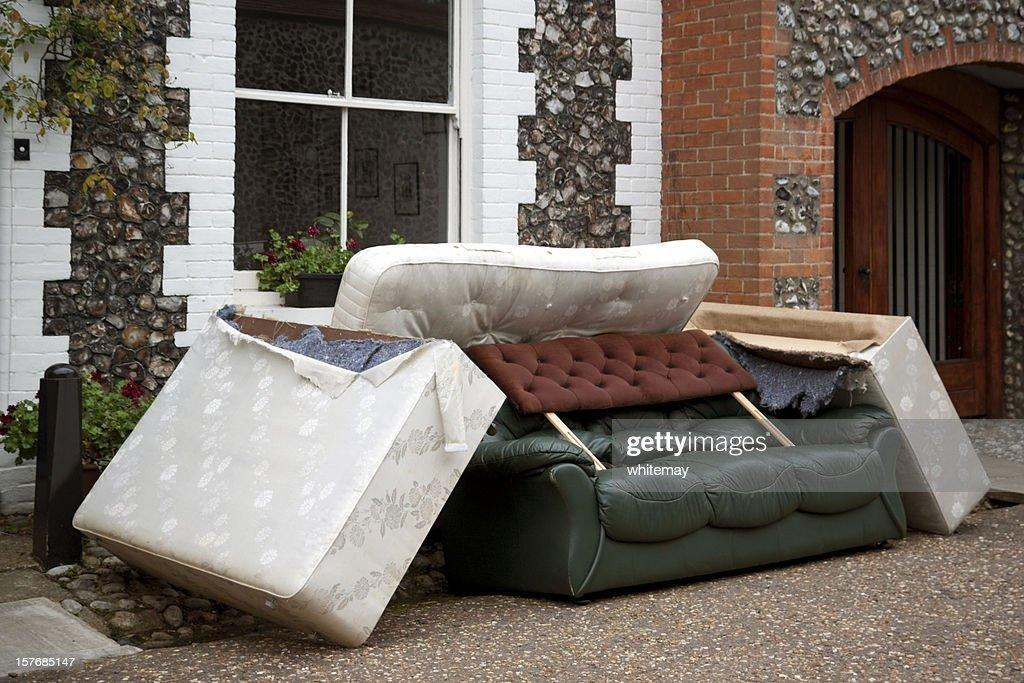Bed-Mattress: (332, 240, 719, 347)
